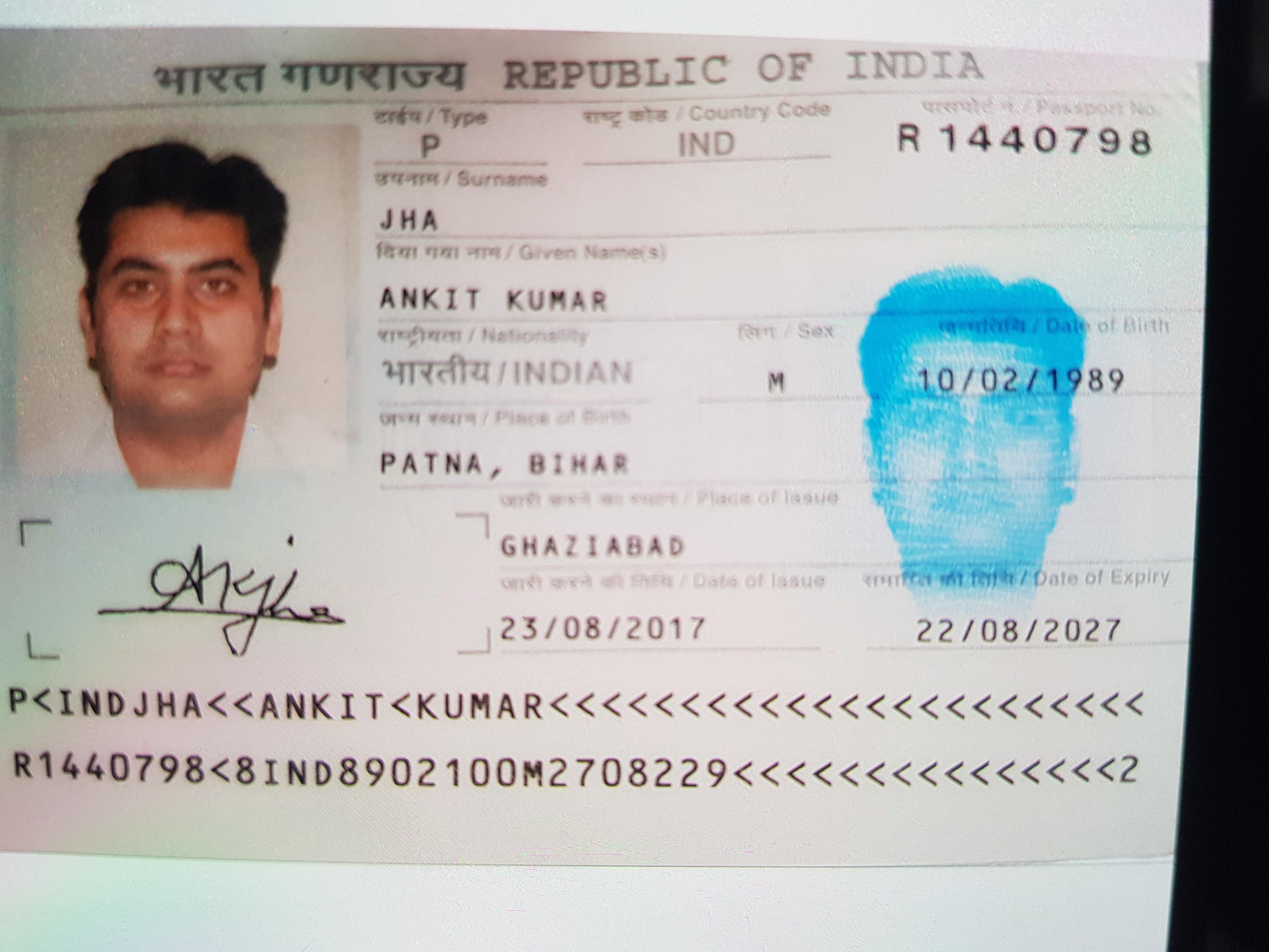DOB: (906, 356, 1139, 404)
Surname: (371, 201, 472, 244)
country_code: (669, 126, 748, 170)
date_of_expiry: (902, 601, 1132, 652)
date_of_issue: (491, 598, 712, 654)
details: (3, 677, 1157, 804)
name: (373, 280, 626, 320)
nationality: (371, 346, 642, 398)
passport_no: (884, 115, 1166, 170)
photo: (24, 132, 345, 483)
place_of_birth: (370, 444, 648, 486)
place_of_issue: (488, 516, 698, 568)
sex: (751, 356, 818, 416)
sign: (112, 526, 400, 649)
type: (406, 124, 461, 169)
